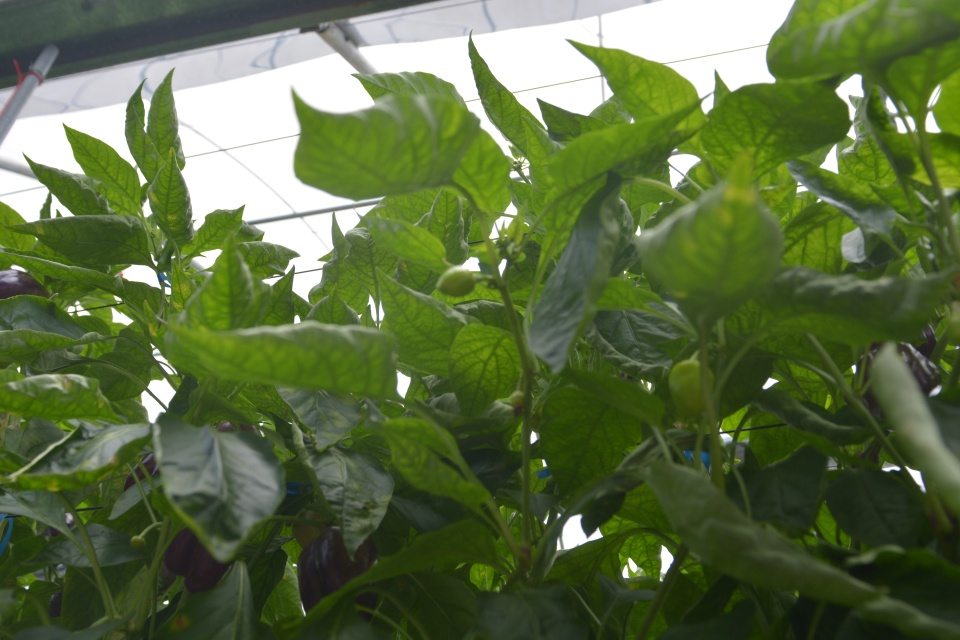fruit: (841, 338, 944, 419), (295, 525, 378, 615), (163, 518, 237, 594), (0, 268, 50, 304), (121, 450, 162, 493)
immature: (666, 356, 717, 419), (433, 264, 477, 296)
